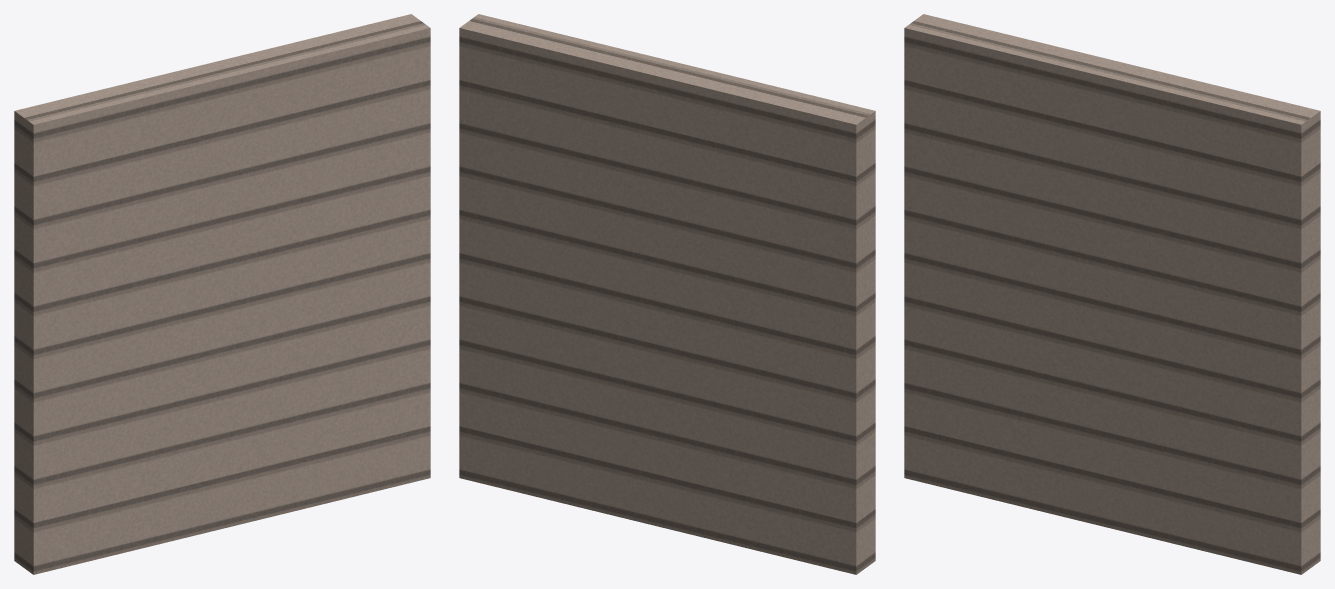
The model's file is stanchion_stall_partition.glb.
3 renders of one model, left to right at view 1: azimuth 30°, elevation 25°; view 2: azimuth 150°, elevation 25°; view 3: azimuth 330°, elevation 25°, orthographic.
Parts seen in each view (by area): view 1: stanchion_stall_partition-col; view 2: stanchion_stall_partition-col; view 3: stanchion_stall_partition-col.
Boxes of the visible parts, left/top/right/bottom form: stanchion_stall_partition-col: left=14, top=14, right=430, bottom=574; stanchion_stall_partition-col: left=459, top=14, right=875, bottom=574; stanchion_stall_partition-col: left=904, top=14, right=1320, bottom=574.
Bounding box in the file's own units: 1.2 × 1.3 × 0.1.
Materials: 1 (1 with a texture image).
